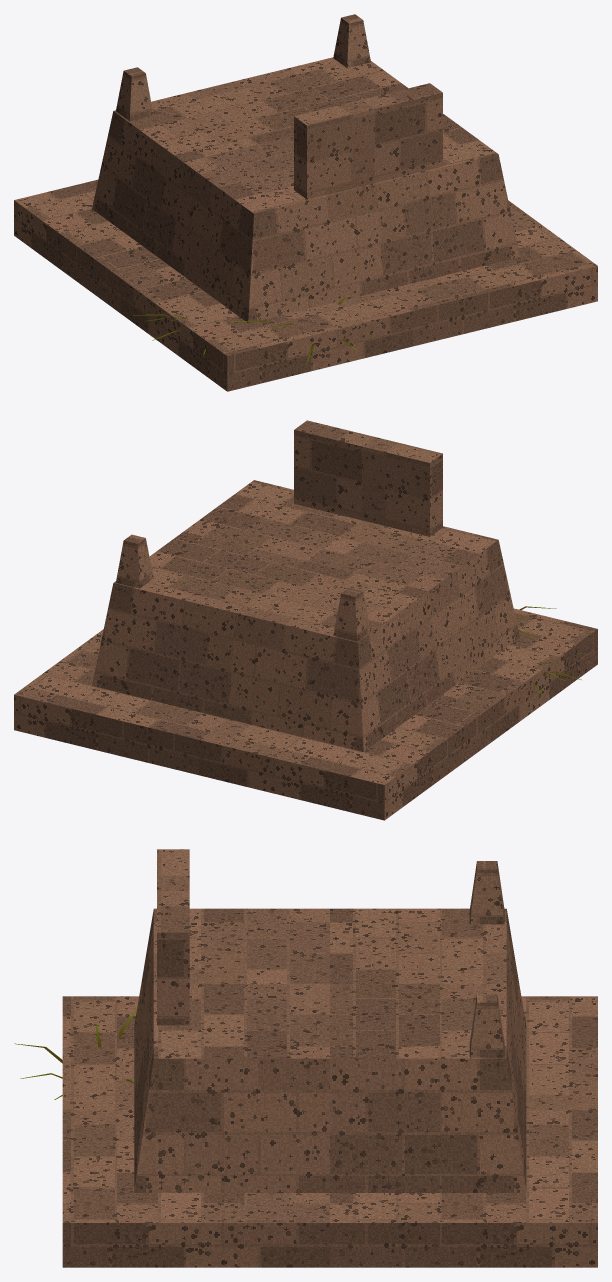
The model's file is ancestor_tomb_01.glb.
3 views of the same model, one above another, from view 1: azimuth 30°, elevation 25°; view 2: azimuth 150°, elevation 25°; view 3: azimuth 270°, elevation 25° (orthographic). The views are drawn at different scales.
Parts seen in each view (by area): view 1: ancestor_tomb_01; view 2: ancestor_tomb_01; view 3: ancestor_tomb_01.
Part boxes in pixels (x1=…): ancestor_tomb_01: x1=14, y1=14, x2=597, y2=391; ancestor_tomb_01: x1=14, y1=420, x2=597, y2=820; ancestor_tomb_01: x1=62, y1=849, x2=597, y2=1267.
Bounding box in the file's own units: 2.84 × 1.42 × 2.86.
Materials: 2 (2 with a texture image).
